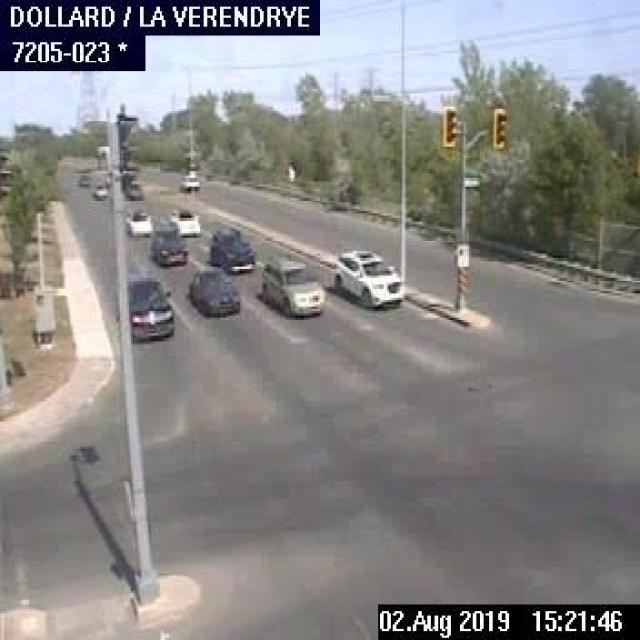vehicle: (331, 246, 401, 306), (260, 256, 326, 318), (126, 274, 174, 342), (186, 265, 237, 315), (207, 227, 253, 270), (150, 215, 187, 267), (171, 208, 199, 235), (125, 208, 152, 235), (178, 173, 200, 191), (126, 182, 146, 200), (91, 181, 109, 200), (76, 169, 92, 187)
